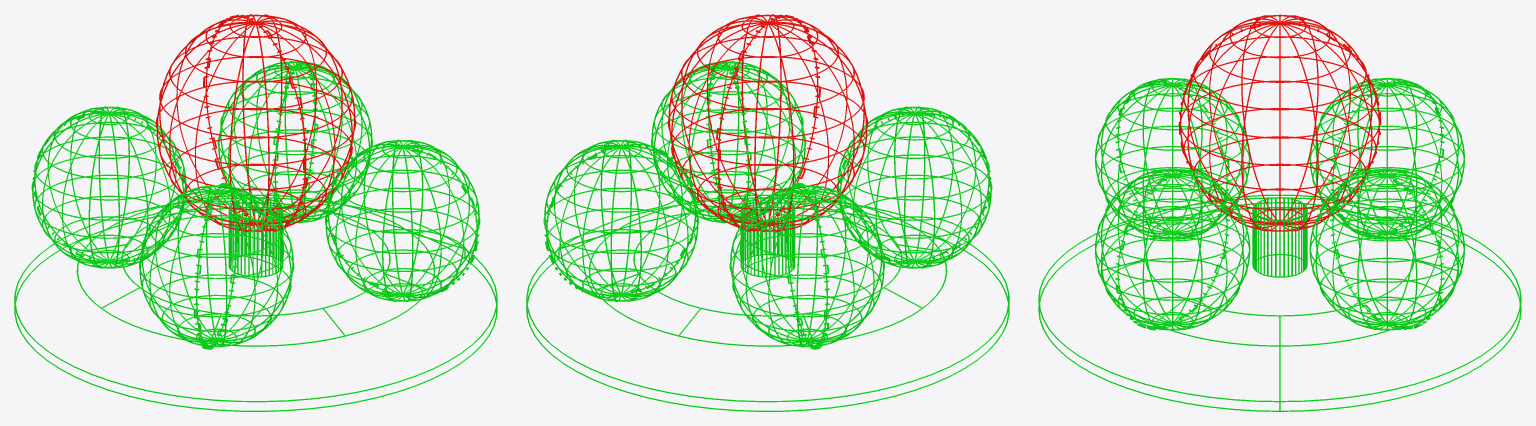
File: asteroid-engines-highlight-central-gravitic-reactor.glb
3 renders of one model, left to right at view 1: azimuth 30°, elevation 25°; view 2: azimuth 150°, elevation 25°; view 3: azimuth 270°, elevation 25°, orthographic.
Visible parts, largest first — view 1: opposing-generator-pairs technical wire, central-gravitic-reactor technical wire, fixed-asteroid-mount technical wire, chassis technical wire; view 2: opposing-generator-pairs technical wire, central-gravitic-reactor technical wire, fixed-asteroid-mount technical wire, chassis technical wire; view 3: opposing-generator-pairs technical wire, central-gravitic-reactor technical wire, fixed-asteroid-mount technical wire, chassis technical wire.
Part boxes in pixels (left/top/right/bottom): opposing-generator-pairs technical wire: left=31, top=61, right=480, bottom=349; central-gravitic-reactor technical wire: left=155, top=14, right=356, bottom=232; fixed-asteroid-mount technical wire: left=14, top=194, right=497, bottom=411; chassis technical wire: left=228, top=197, right=283, bottom=277; opposing-generator-pairs technical wire: left=543, top=61, right=992, bottom=349; central-gravitic-reactor technical wire: left=667, top=14, right=868, bottom=232; fixed-asteroid-mount technical wire: left=526, top=194, right=1009, bottom=411; chassis technical wire: left=740, top=197, right=795, bottom=277; opposing-generator-pairs technical wire: left=1095, top=77, right=1464, bottom=330; central-gravitic-reactor technical wire: left=1178, top=14, right=1381, bottom=232; fixed-asteroid-mount technical wire: left=1038, top=194, right=1521, bottom=411; chassis technical wire: left=1252, top=197, right=1307, bottom=277.
Size of the model in its own units: 2.71 by 1.78 by 2.71.
